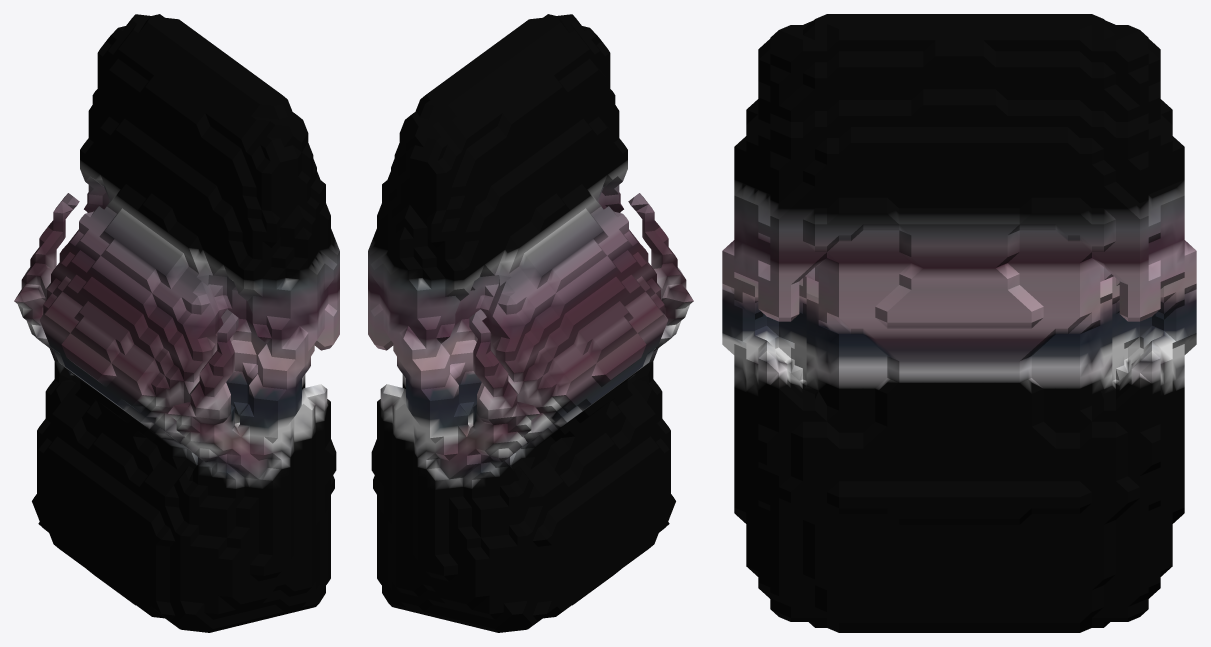
The model's file is real_3d_object.obj.
3 renders of one model, left to right at view 1: azimuth 30°, elevation 25°; view 2: azimuth 150°, elevation 25°; view 3: azimuth 270°, elevation 25°, orthographic. The views are drawn at different scales.
Size of the model in its own units: 0.6688 by 1.7 by 1.23.
